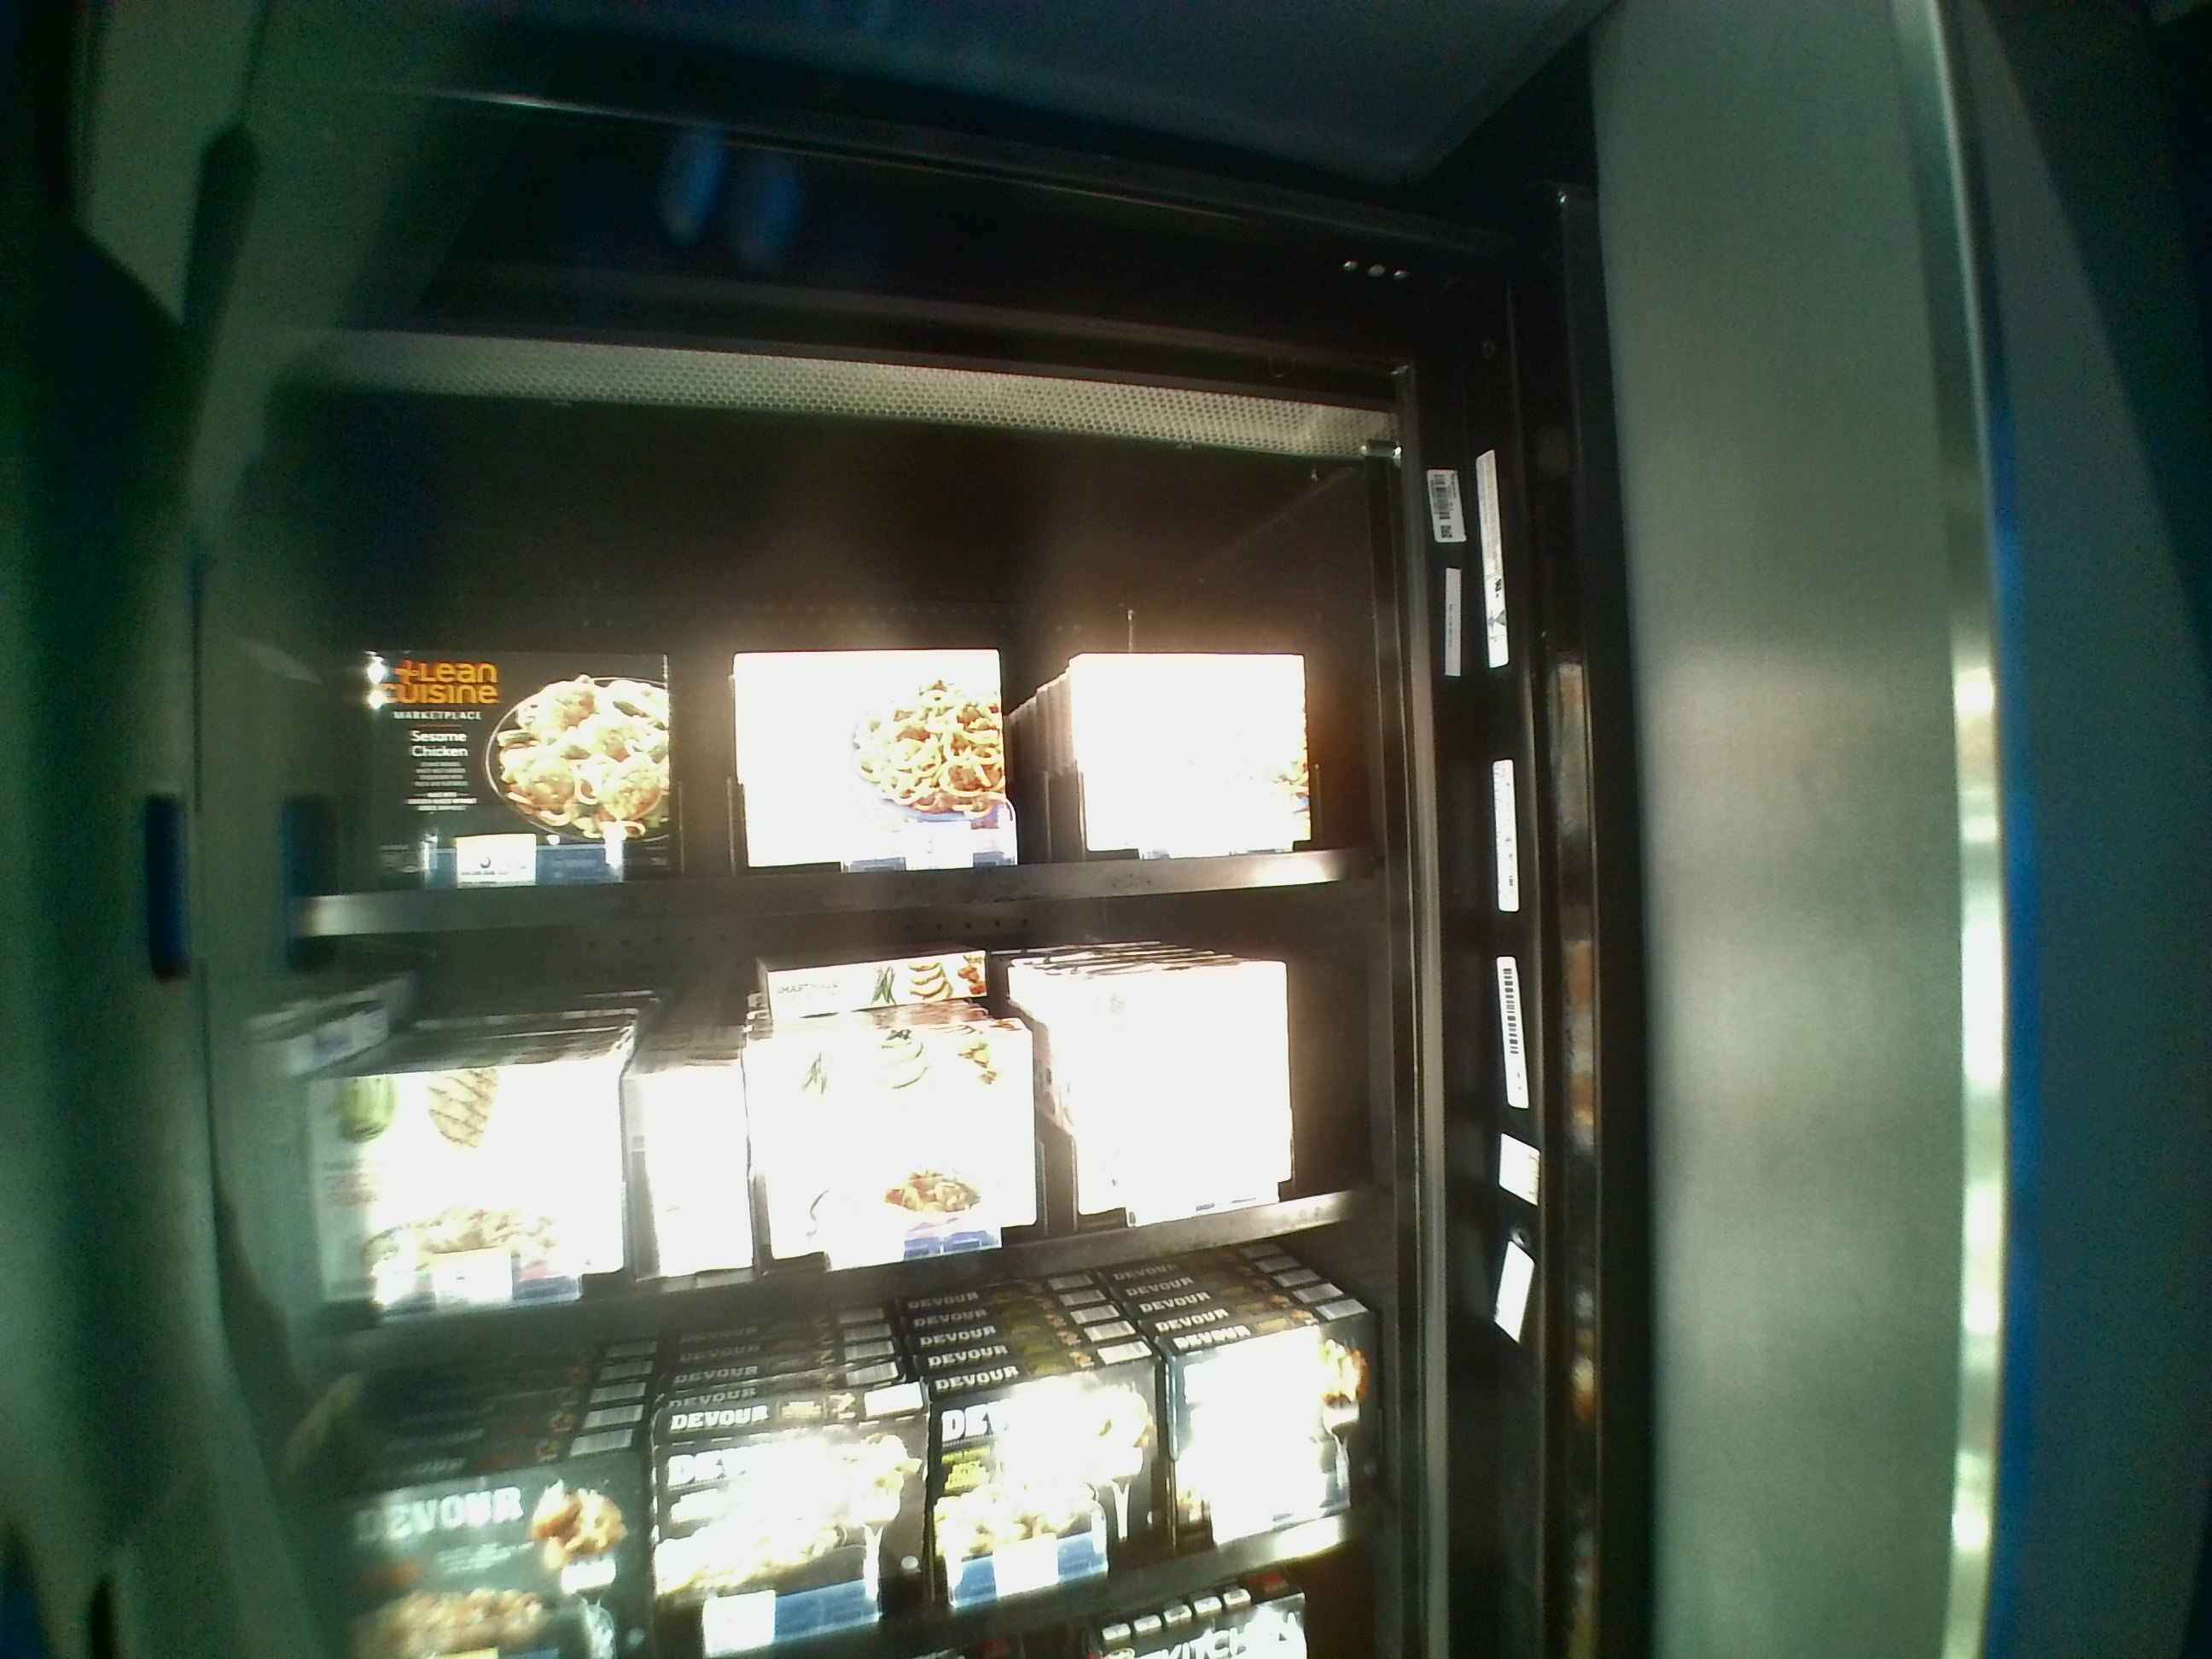shelf: (308, 462, 1360, 918), (301, 922, 1360, 1349)
